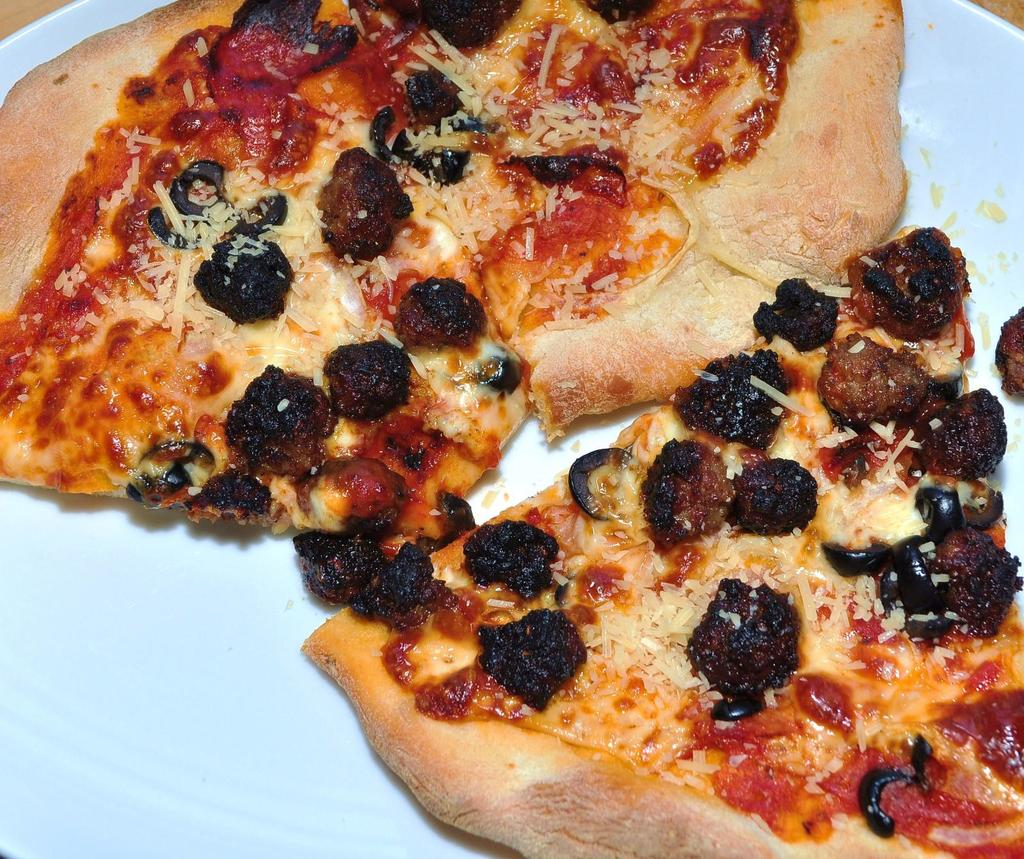Pizza: (300, 220, 1023, 858), (0, 0, 532, 561), (360, 0, 906, 442)
